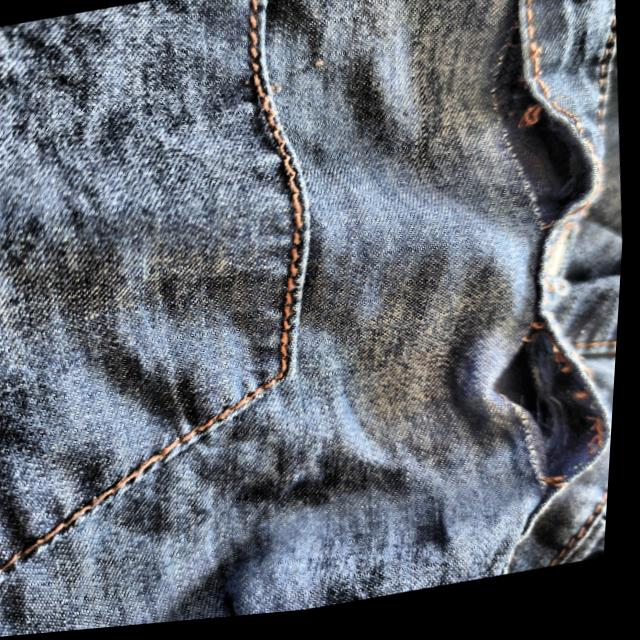seam: (459, 0, 620, 260), (478, 303, 624, 536)
